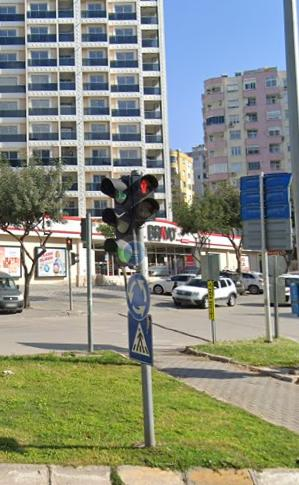crossroads: (125, 272, 150, 316)
greenlight: (101, 178, 133, 263)
